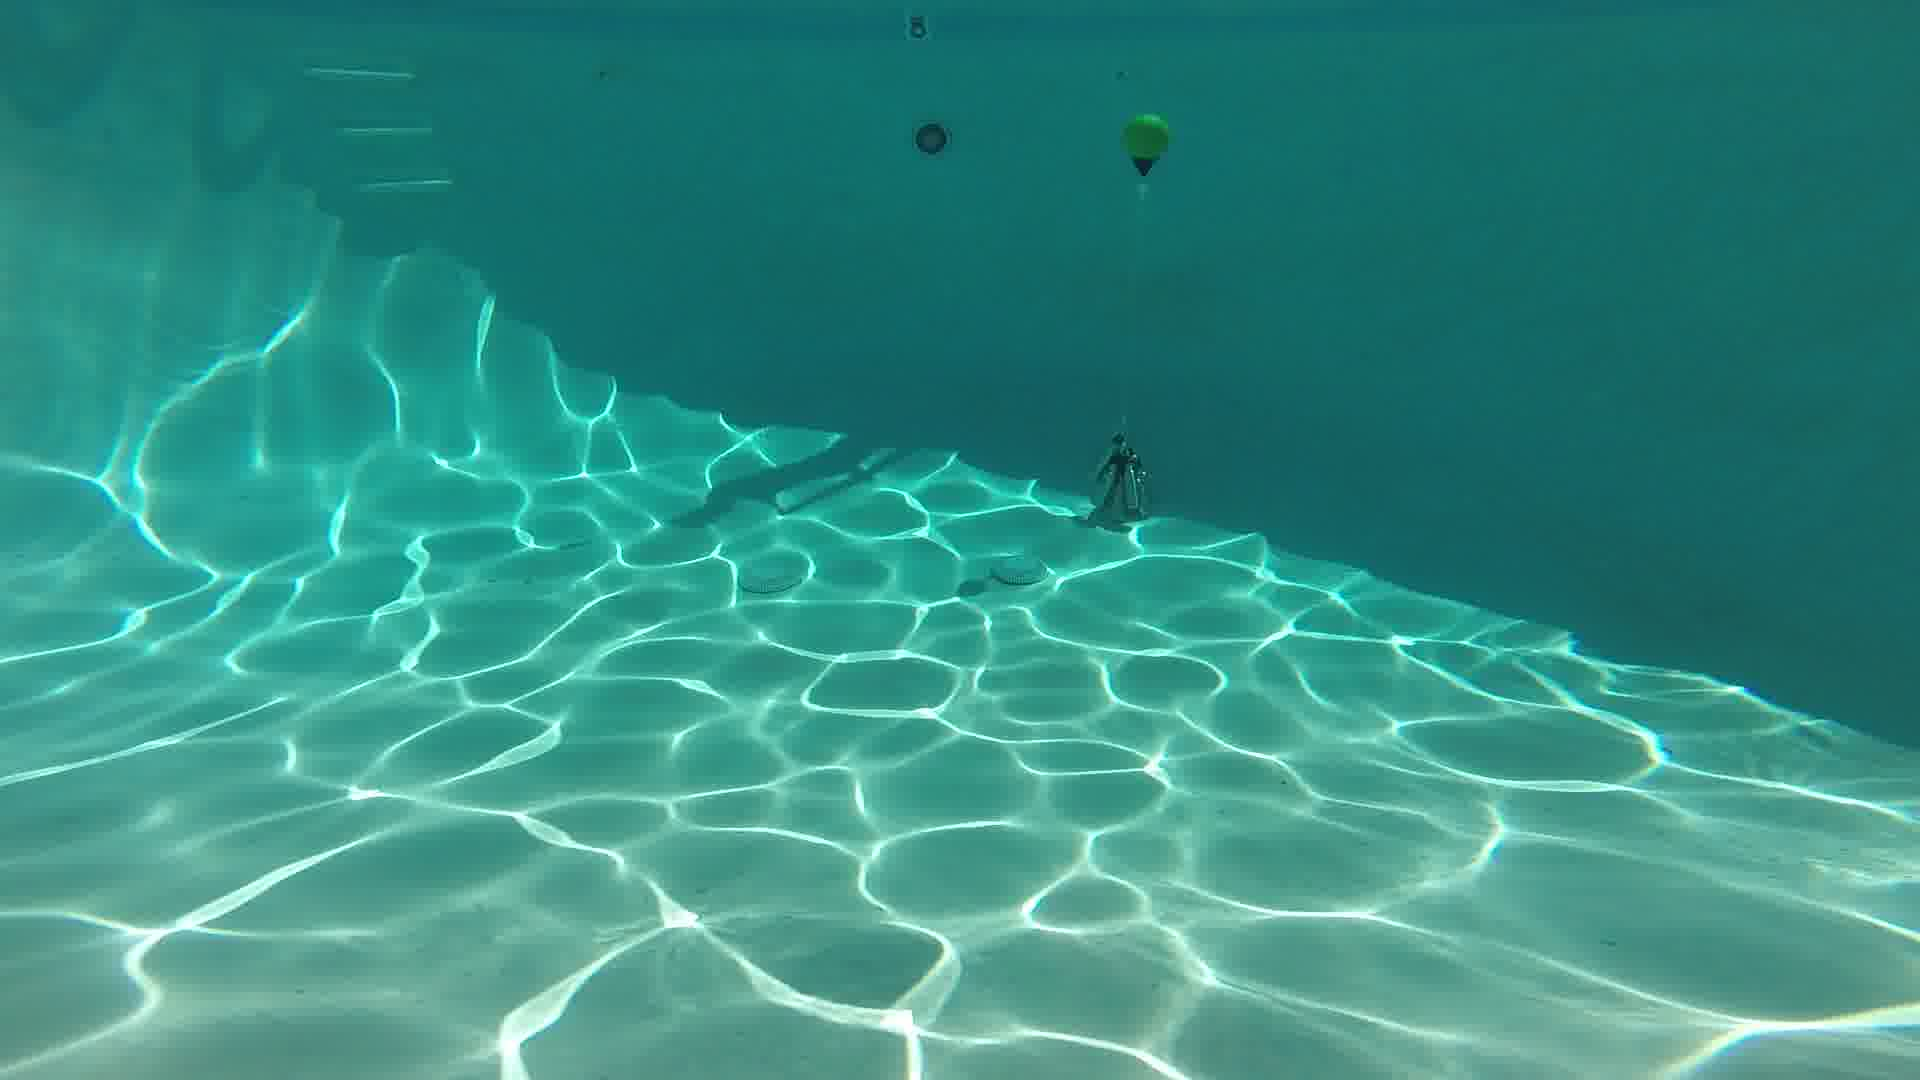yellow_buoy: (1124, 115, 1168, 177)
